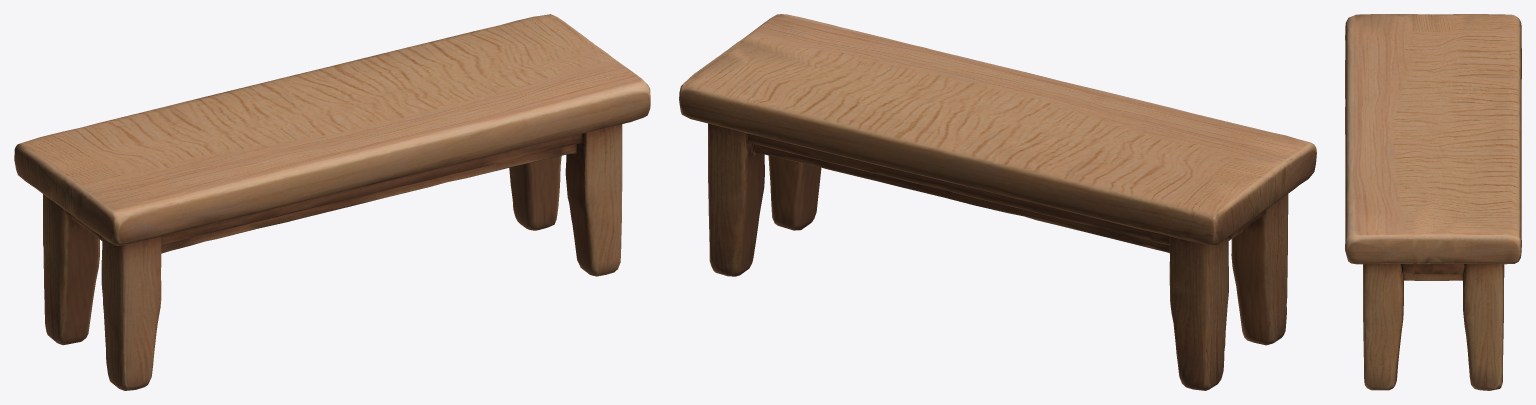
File: Table_Main.fbx
3 views of the same model, side by side, from view 1: azimuth 30°, elevation 25°; view 2: azimuth 150°, elevation 25°; view 3: azimuth 270°, elevation 25° (orthographic). The views are drawn at different scales.
Parts seen in each view (by area): view 1: TABLE_Main; view 2: TABLE_Main; view 3: TABLE_Main.
Boxes of the visible parts, box(x1,y1,x2,y2) form: TABLE_Main: box(14, 14, 650, 390); TABLE_Main: box(679, 14, 1316, 390); TABLE_Main: box(1345, 14, 1521, 390).
Size of the model in its own units: 1.8 by 0.6199 by 0.5999.
